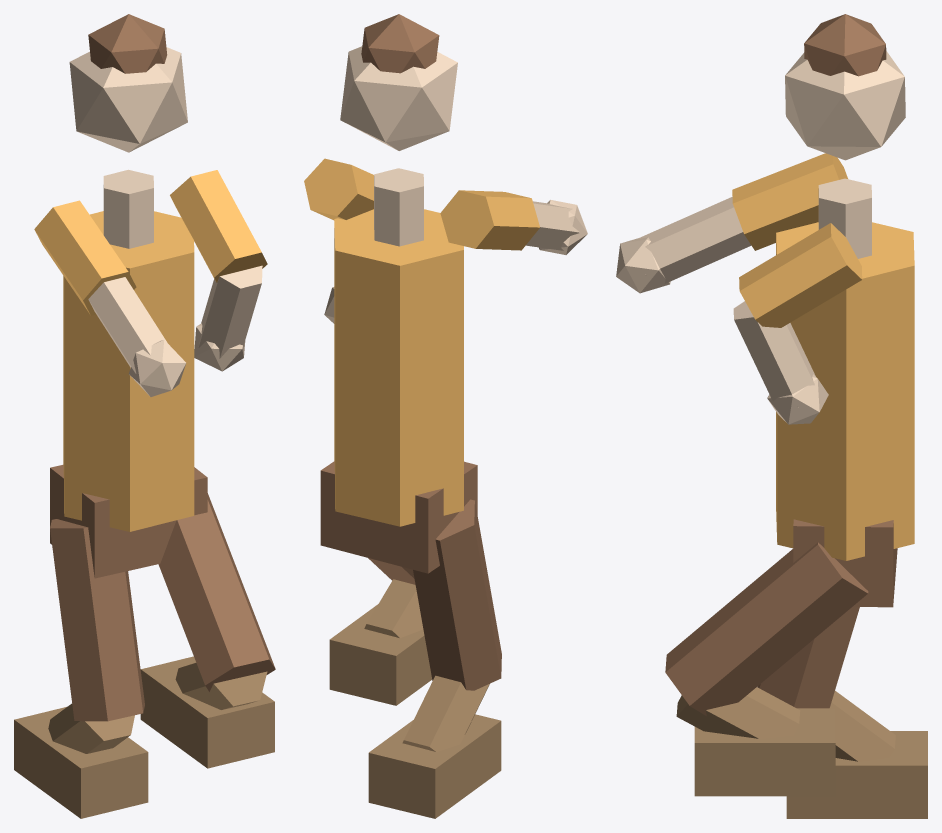
File: pose_walk_03.glb
3 renders of one model, left to right at view 1: azimuth 30°, elevation 25°; view 2: azimuth 150°, elevation 25°; view 3: azimuth 270°, elevation 25°, orthographic. The views are drawn at different scales.
Visible parts, largest first — view 1: pose; view 2: pose; view 3: pose.
Part boxes in pixels (box(x1,y1,x2,y2)): pose: box(14, 14, 275, 818); pose: box(304, 14, 587, 818); pose: box(616, 14, 927, 818).
Size of the model in its own units: 0.3976 by 1.52 by 0.5305.
